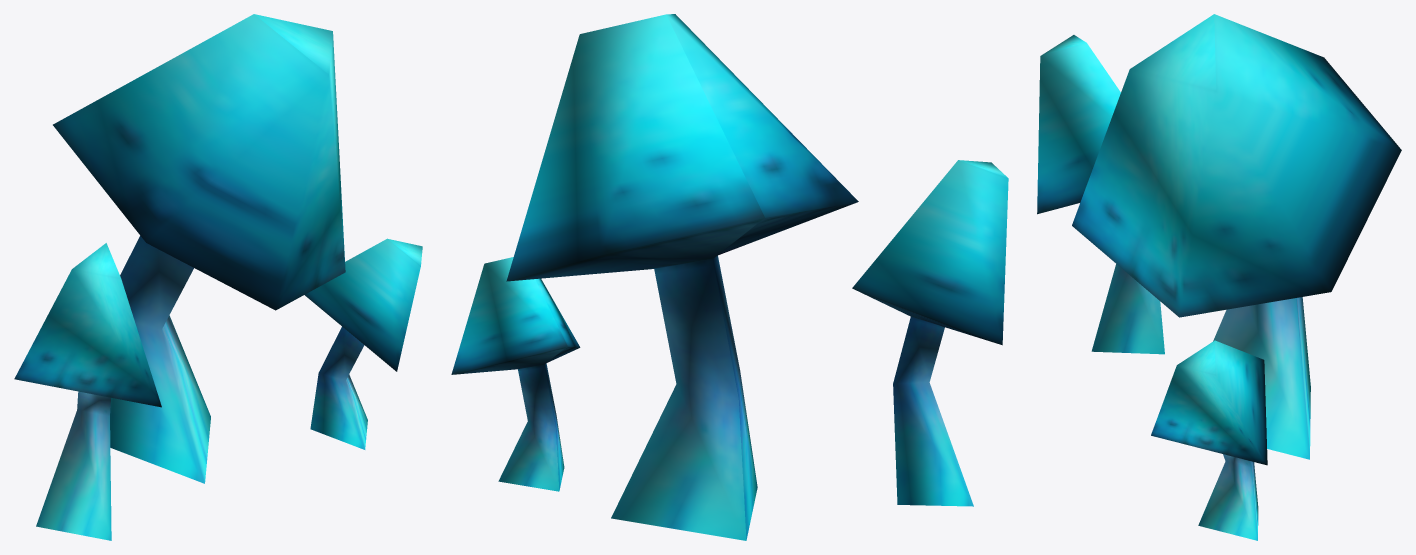
Rendered from Mushroom.FBX.
The picture shows the model from 3 angles, left to right: view 1: azimuth 30°, elevation 25°; view 2: azimuth 150°, elevation 25°; view 3: azimuth 270°, elevation 25°; orthographic projection. The views are drawn at different scales.
Visible parts, largest first — view 1: Mushroom; view 2: Mushroom; view 3: Mushroom.
Part boxes in pixels (<box>): Mushroom: <box>14,14,422,540</box>; Mushroom: <box>451,14,1008,540</box>; Mushroom: <box>1037,14,1401,540</box>.
Size of what is drawn, in the model's own units: 52.46 by 50.49 by 36.22.
